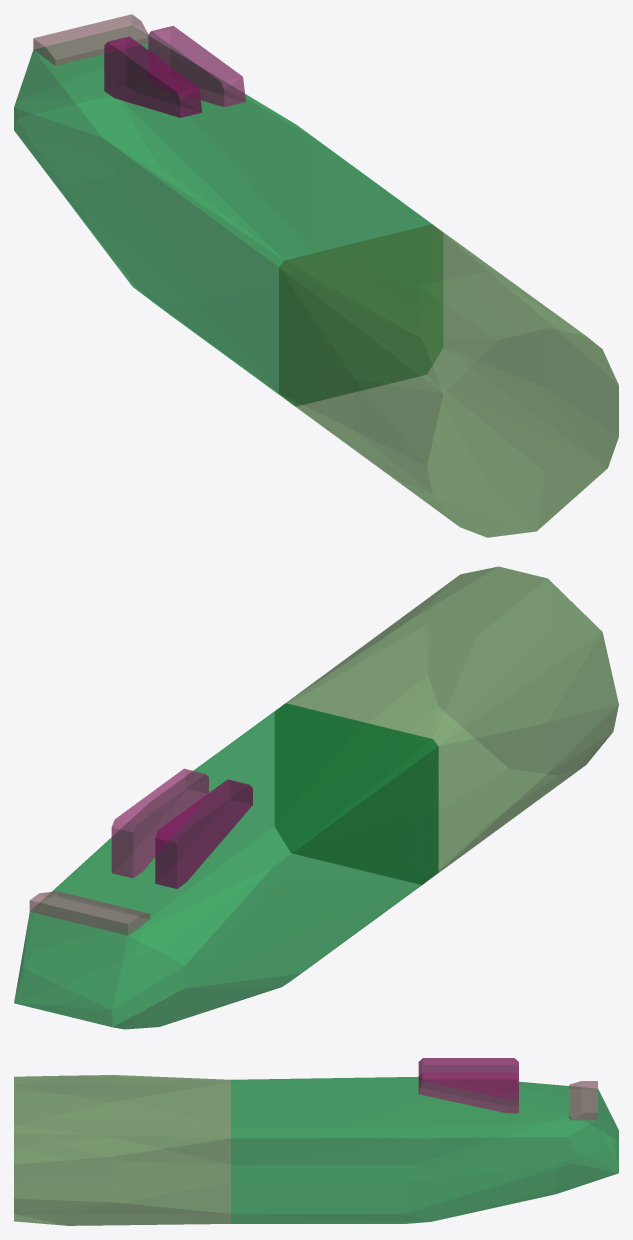
Rendered from one_tool_meter.obj.
3 views of the same model, one above another, from view 1: azimuth 30°, elevation 25°; view 2: azimuth 150°, elevation 25°; view 3: azimuth 270°, elevation 25° (orthographic). The views are drawn at different scales.
Visible parts, largest first — view 1: Shape_convex_4, Shape_convex_5, Shape_convex_2, Shape_convex_1, Shape_convex_3; view 2: Shape_convex_4, Shape_convex_5, Shape_convex_2, Shape_convex_1, Shape_convex_3; view 3: Shape_convex_4, Shape_convex_5, Shape_convex_1, Shape_convex_2, Shape_convex_3.
Boxes of the visible parts, box(x1,y1,x2,y2) form: Shape_convex_4: box(14, 26, 442, 406); Shape_convex_5: box(279, 224, 618, 537); Shape_convex_2: box(104, 36, 202, 117); Shape_convex_1: box(148, 25, 245, 107); Shape_convex_3: box(33, 14, 150, 65); Shape_convex_4: box(14, 703, 438, 1029); Shape_convex_5: box(275, 566, 618, 884); Shape_convex_2: box(155, 779, 252, 888); Shape_convex_1: box(111, 768, 208, 878); Shape_convex_3: box(29, 891, 150, 935); Shape_convex_4: box(231, 1076, 618, 1223); Shape_convex_5: box(14, 1075, 230, 1225); Shape_convex_1: box(418, 1072, 518, 1113); Shape_convex_2: box(418, 1058, 518, 1098); Shape_convex_3: box(569, 1081, 597, 1120).
Bounding box in the file's own units: 0.0812 × 0.0905 × 0.3365.
